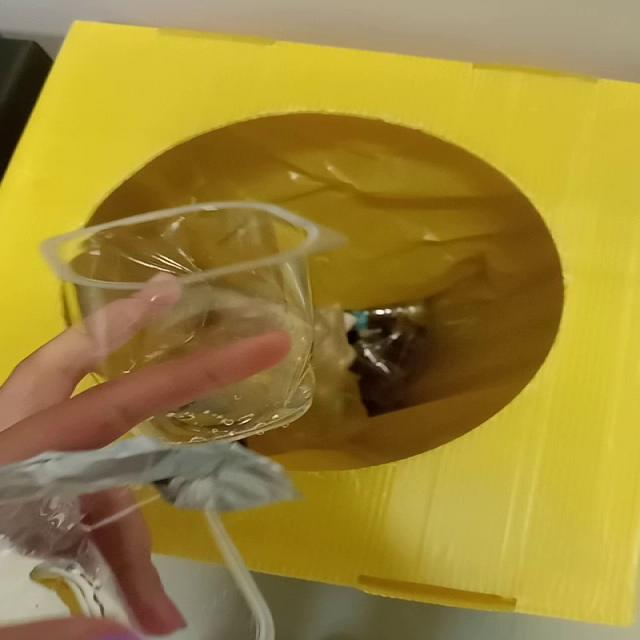plastic: (41, 202, 345, 444)
